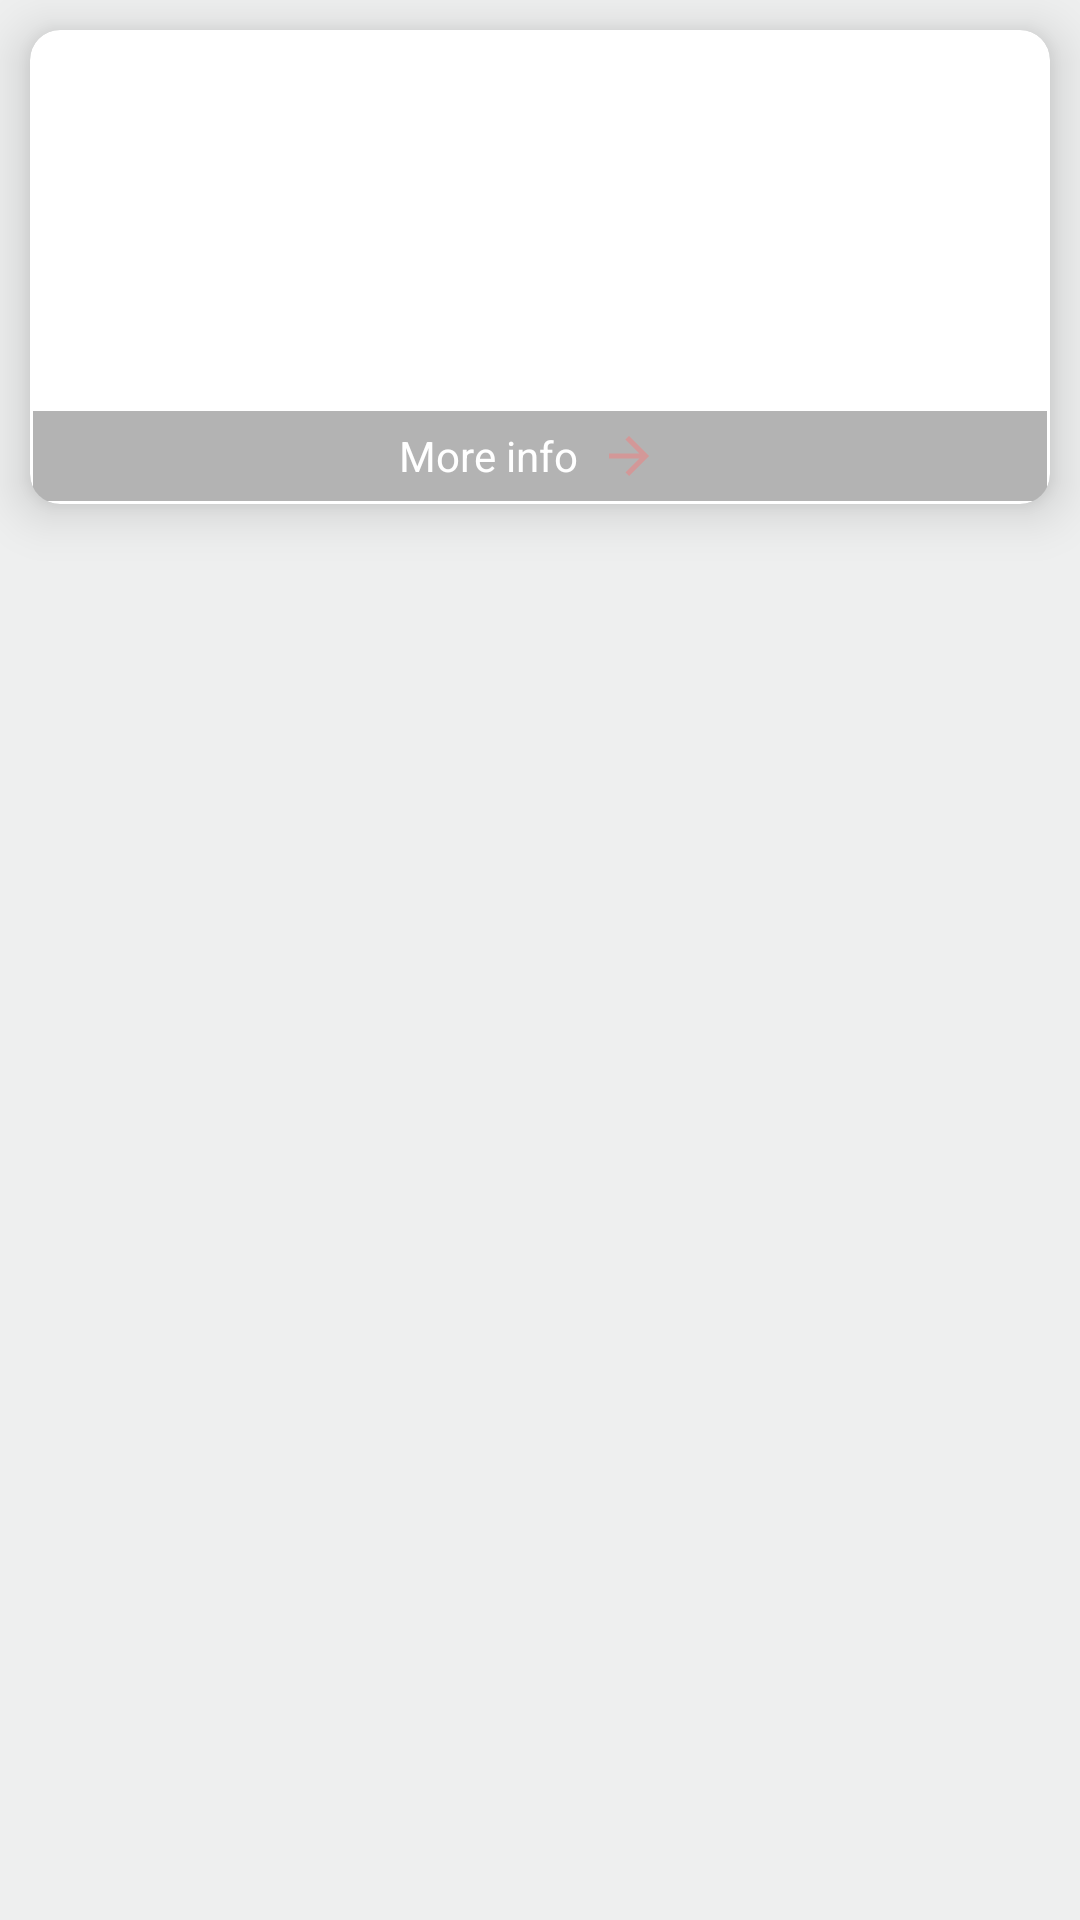

Point at icon controls on the screen. Image size 1080×1920, points as (x=x, y=y).
arrow forward: (x=628, y=456)
